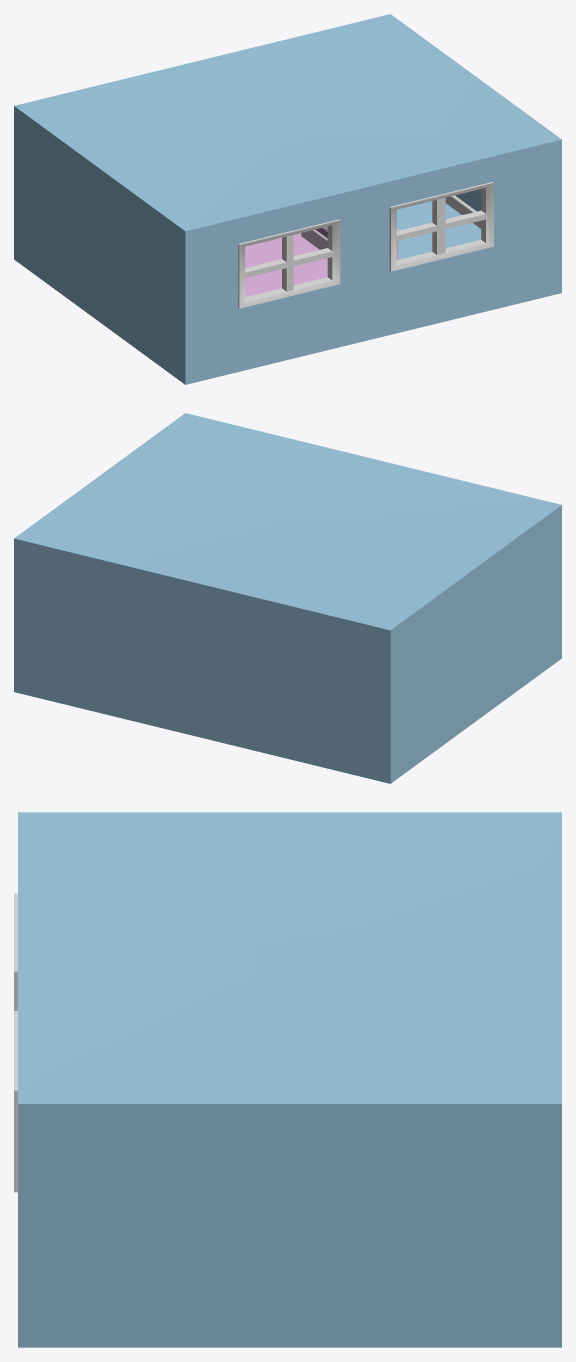
File: LivingRoomScence.fbx
The picture shows the model from 3 angles, top to bottom: view 1: azimuth 30°, elevation 25°; view 2: azimuth 150°, elevation 25°; view 3: azimuth 270°, elevation 25°; orthographic projection. The views are drawn at different scales.
Parts seen in each view (by area): view 1: Room, FrameWindow, floor, FrameWindow1, Sofa; view 2: Room; view 3: Room, FrameWindow.
Part boxes in pixels (bbox=[...]): Room: bbox=[14, 14, 561, 384]; FrameWindow: bbox=[389, 182, 493, 271]; floor: bbox=[245, 233, 401, 296]; FrameWindow1: bbox=[238, 219, 340, 308]; Sofa: bbox=[301, 226, 398, 259]; Room: bbox=[14, 413, 561, 783]; Room: bbox=[18, 812, 561, 1347]; FrameWindow: bbox=[14, 1011, 17, 1192].
Bounding box in the file's own units: 44.55 × 17.36 × 35.39.
